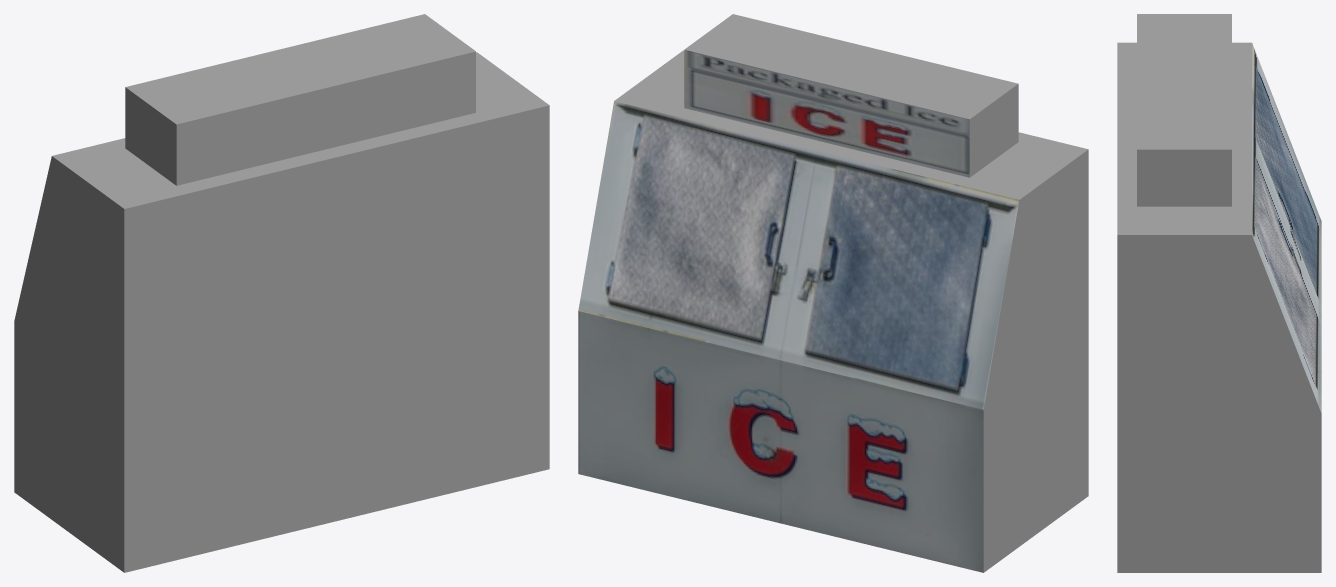
File: IceMachine.fbx
3 views of the same model, side by side, from view 1: azimuth 30°, elevation 25°; view 2: azimuth 150°, elevation 25°; view 3: azimuth 270°, elevation 25° (orthographic). The views are drawn at different scales.
Visible parts, largest first — view 1: IceMachine; view 2: IceMachine; view 3: IceMachine.
Boxes of the visible parts, x1,y1,x2,y2 form: IceMachine: [14, 14, 549, 572]; IceMachine: [578, 14, 1088, 572]; IceMachine: [1117, 14, 1321, 572].
Bounding box in the file's own units: 9.04 × 8.64 × 4.05.
